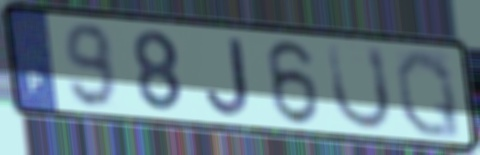6: (264, 37, 321, 129)
8: (131, 28, 187, 114)
9: (62, 20, 122, 111)
J: (203, 36, 254, 119)
Q: (392, 46, 464, 141)
U: (324, 40, 395, 133)
